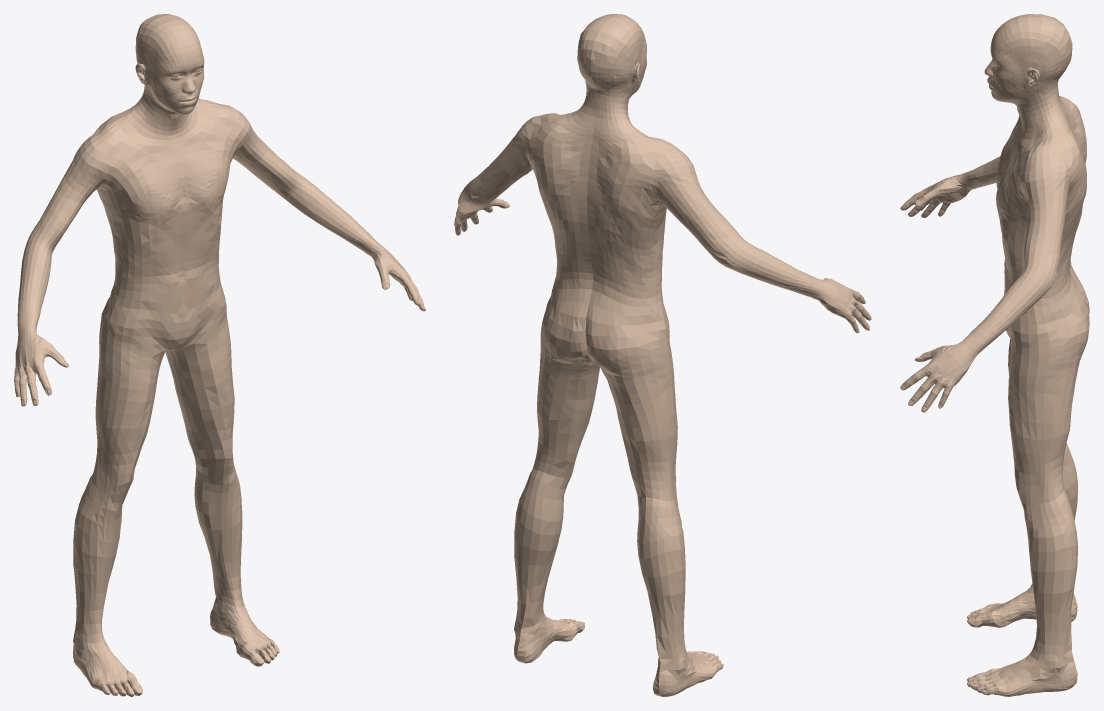
Rendered from male-young-lean-medium.glb.
3 views of the same model, side by side, from view 1: azimuth 30°, elevation 25°; view 2: azimuth 150°, elevation 25°; view 3: azimuth 270°, elevation 25° (orthographic).
Visible parts, largest first — view 1: world; view 2: world; view 3: world.
Part boxes in pixels (<box>): world: <box>14,14,425,696</box>; world: <box>454,14,871,696</box>; world: <box>900,14,1089,696</box>.
Size of the model in its own units: 1.24 by 1.89 by 0.5073.
